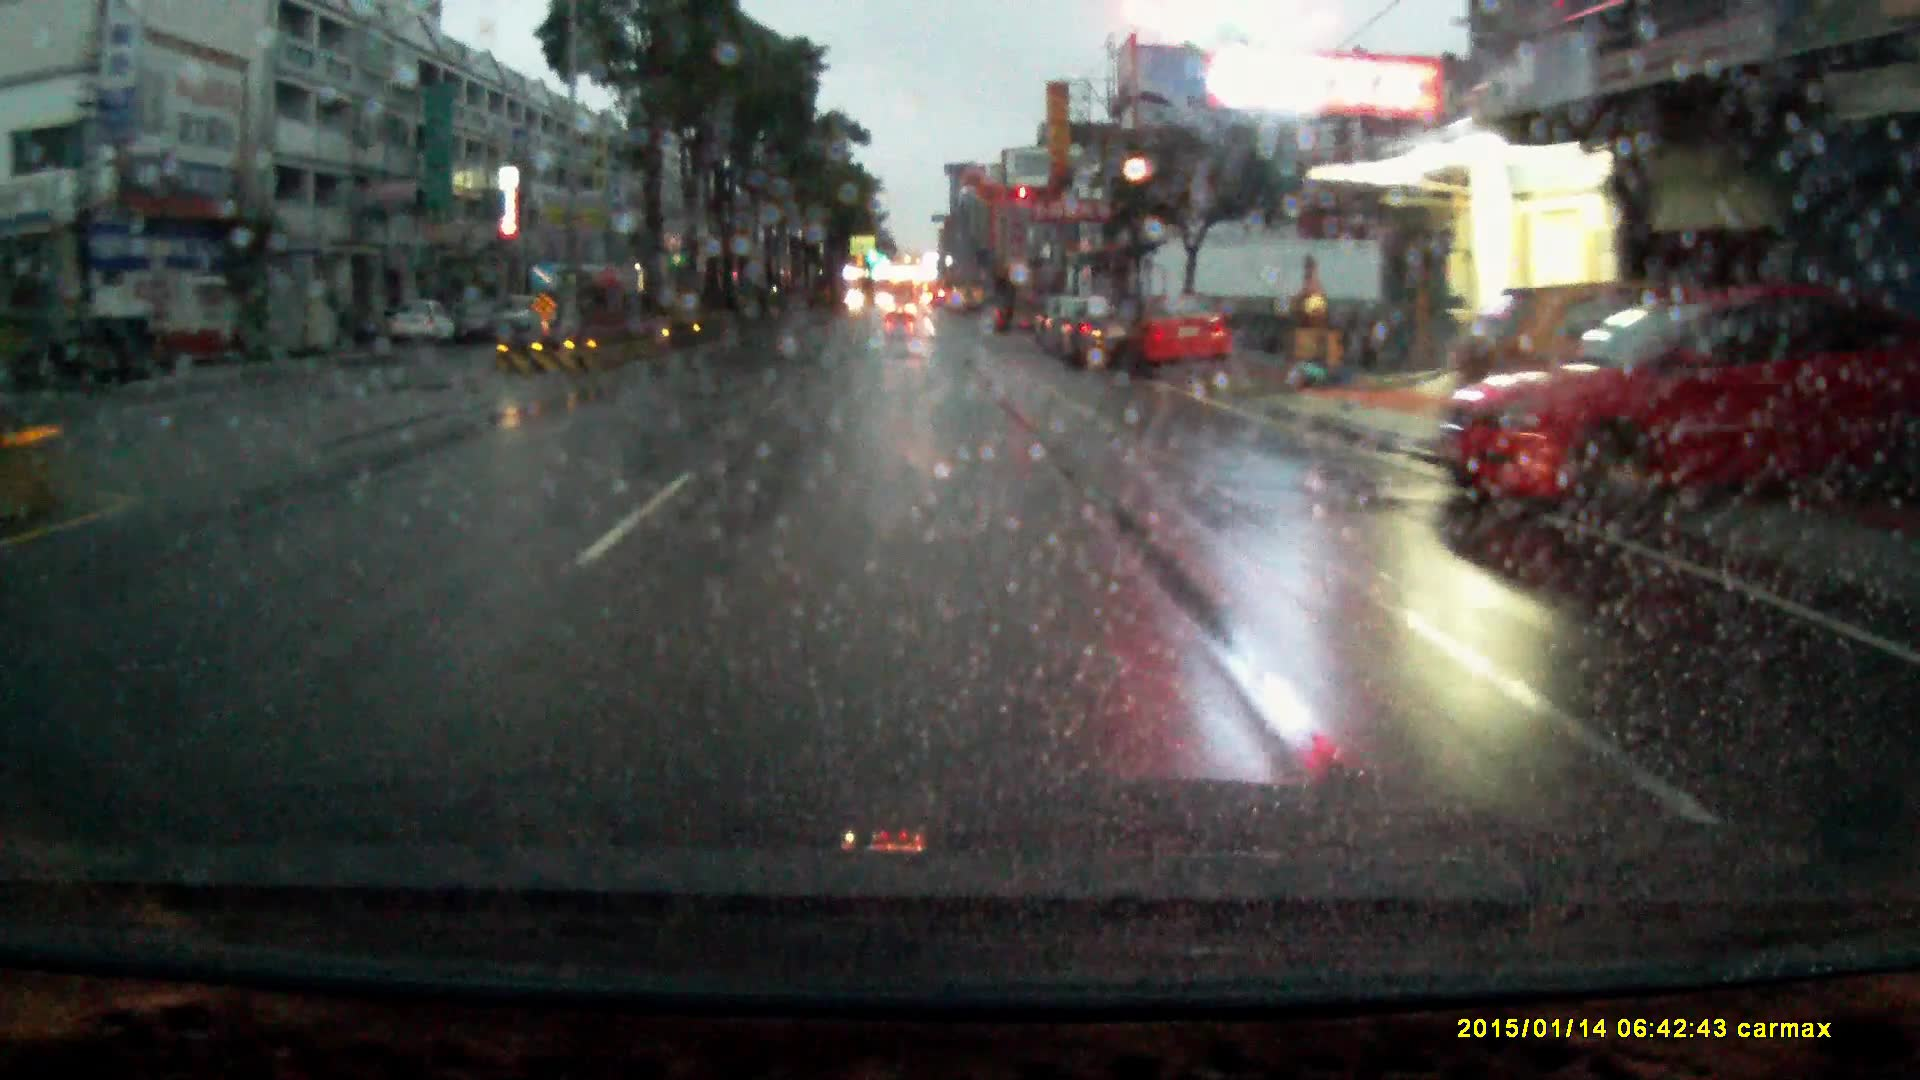vehicle: (1439, 277, 1869, 514), (1124, 287, 1240, 378), (1055, 293, 1133, 371), (388, 291, 460, 345), (495, 289, 564, 335), (1042, 289, 1062, 343), (887, 291, 918, 319)
